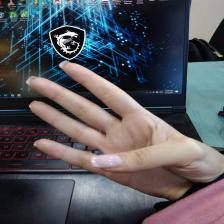four: (19, 60, 218, 189)
